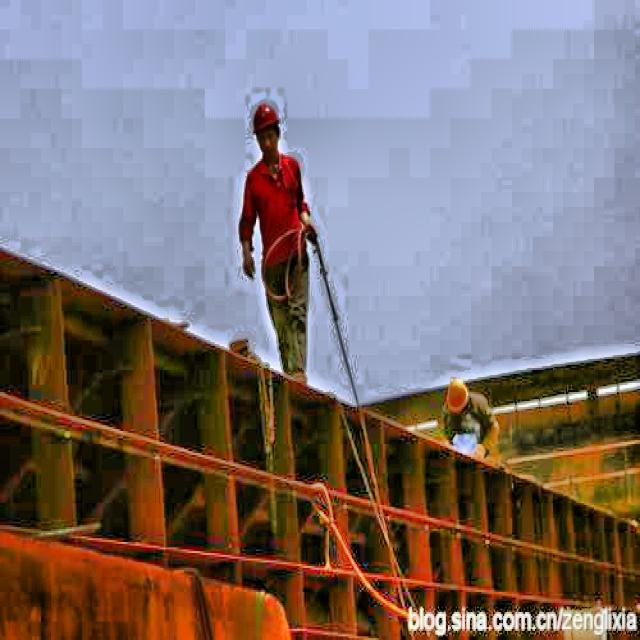helmet: (252, 96, 286, 159), (440, 374, 472, 414)
